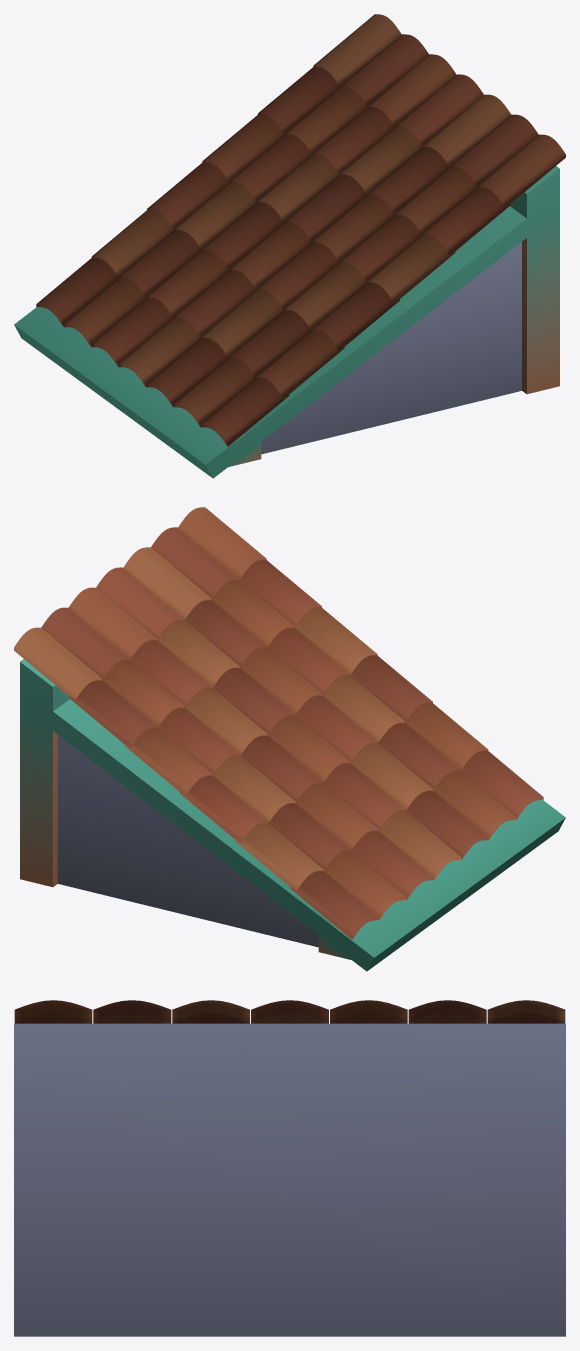
Rendered from fw_roof_gentle.glb.
3 views of the same model, one above another, from view 1: azimuth 30°, elevation 25°; view 2: azimuth 150°, elevation 25°; view 3: azimuth 270°, elevation 25° (orthographic). The views are drawn at different scales.
Parts seen in each view (by area): view 1: body; view 2: body; view 3: body.
Part boxes in pixels (x1,y1,x2,y2): body: [14, 14, 565, 478]; body: [14, 507, 565, 971]; body: [14, 1000, 565, 1336].
Bounding box in the file's own units: 2.82 × 1.83 × 2.6.
